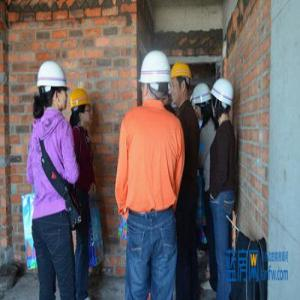white: (139, 48, 173, 110), (37, 59, 69, 119), (211, 78, 236, 119), (192, 83, 213, 124)
yellow: (169, 58, 193, 112), (69, 88, 94, 131)
